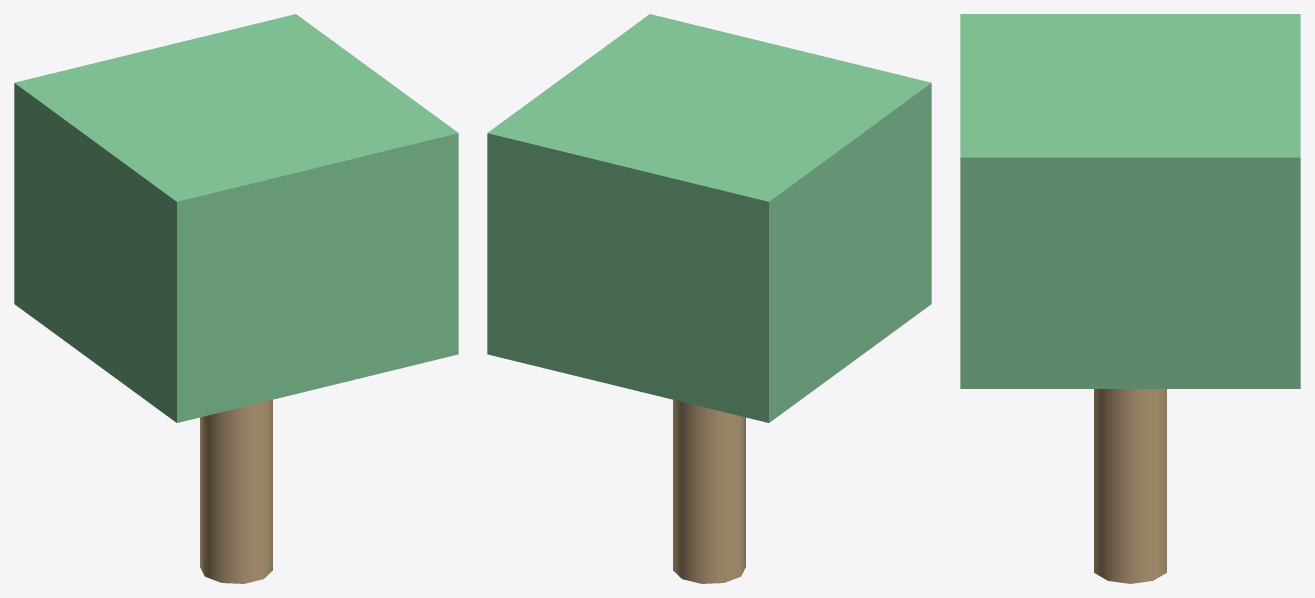
Rendered from tree.glb.
3 views of the same model, side by side, from view 1: azimuth 30°, elevation 25°; view 2: azimuth 150°, elevation 25°; view 3: azimuth 270°, elevation 25° (orthographic). The views are drawn at different scales.
Parts seen in each view (by area): view 1: Canopy, Trunk; view 2: Canopy, Trunk; view 3: Canopy, Trunk.
Part boxes in pixels (left/top/right/bottom): Canopy: left=14, top=14, right=458, bottom=422; Trunk: left=200, top=399, right=272, bottom=583; Canopy: left=487, top=14, right=931, bottom=422; Trunk: left=673, top=399, right=745, bottom=583; Canopy: left=960, top=14, right=1300, bottom=388; Trunk: left=1094, top=389, right=1166, bottom=583.
Size of the model in its own units: 1.6 by 2.5 by 1.6.
